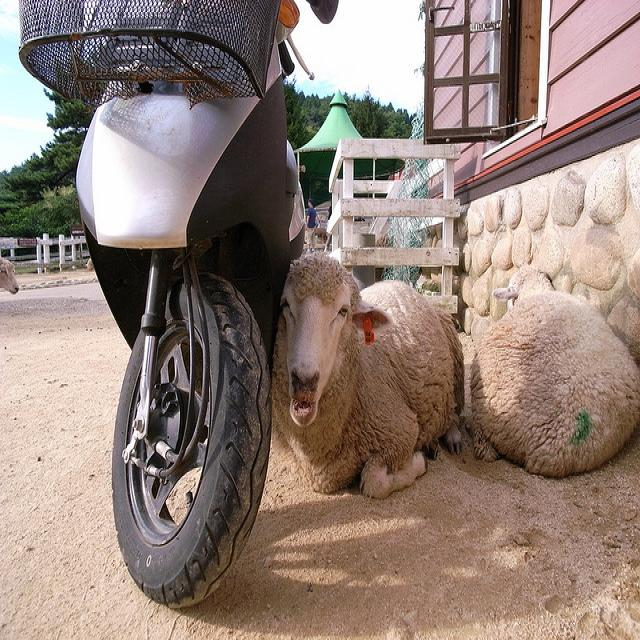motor: (11, 0, 351, 617)
